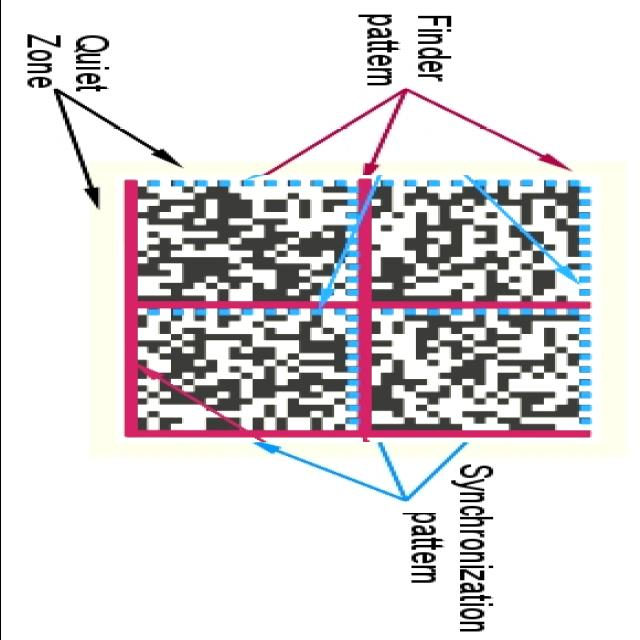DataMatrix: (115, 175, 600, 444)
